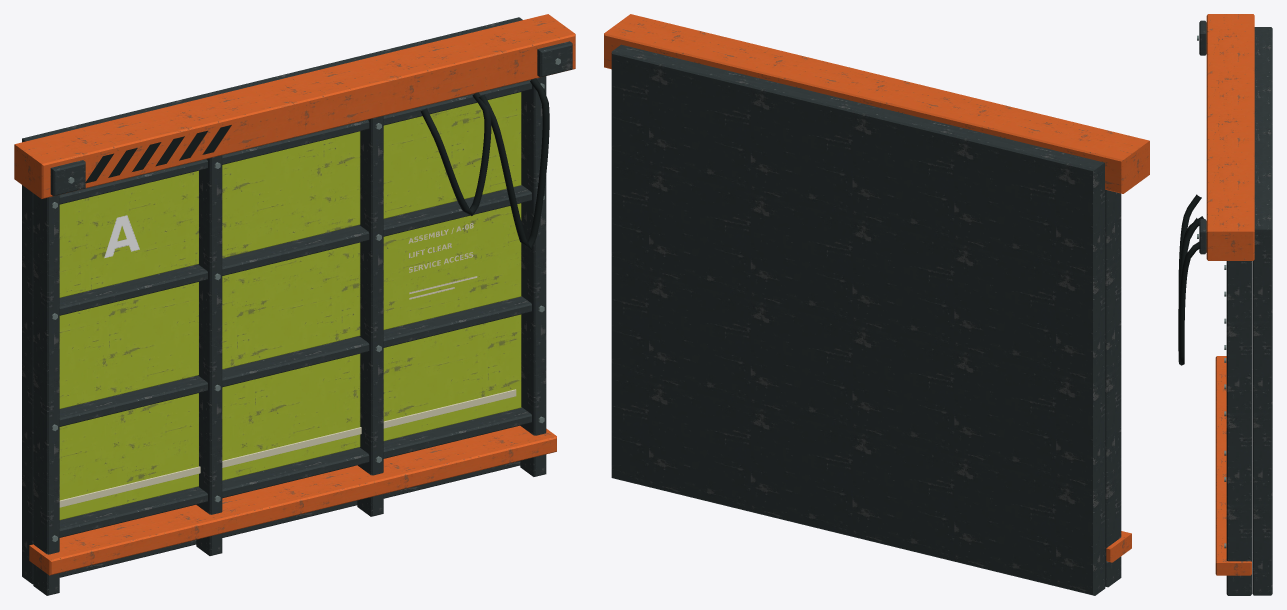
Rendered from factory-a08-proof-wall-bay-v2.glb.
3 views of the same model, side by side, from view 1: azimuth 30°, elevation 25°; view 2: azimuth 150°, elevation 25°; view 3: azimuth 270°, elevation 25° (orthographic). The views are drawn at different scales.
Visible parts, largest first — view 1: wall:lime, wall:charcoal, wall:orange, detail:rubber, wall:ivory, wall:rubber, wall:stencil, wall:ink; view 2: wall:charcoal, wall:orange; view 3: wall:charcoal, wall:orange, detail:rubber, wall:hardware.
Boxes of the visible parts, x1,y1,x2,y2 form: wall:lime: (59,92,521,520); wall:charcoal: (22,17,572,595); wall:orange: (14,14,575,575); detail:rubber: (420,78,549,249); wall:ivory: (59,389,516,507); wall:rubber: (85,125,231,183); wall:stencil: (408,223,477,299); wall:ink: (104,215,139,258); wall:charcoal: (611,44,1121,595); wall:orange: (604,14,1149,562); wall:charcoal: (1199,20,1272,595); wall:orange: (1206,14,1254,575); detail:rubber: (1178,194,1203,365); wall:hardware: (1197,35,1226,548).
Size of the model in its own units: 10.2 by 8.12 by 1.87.
8 materials, 5 textured.
